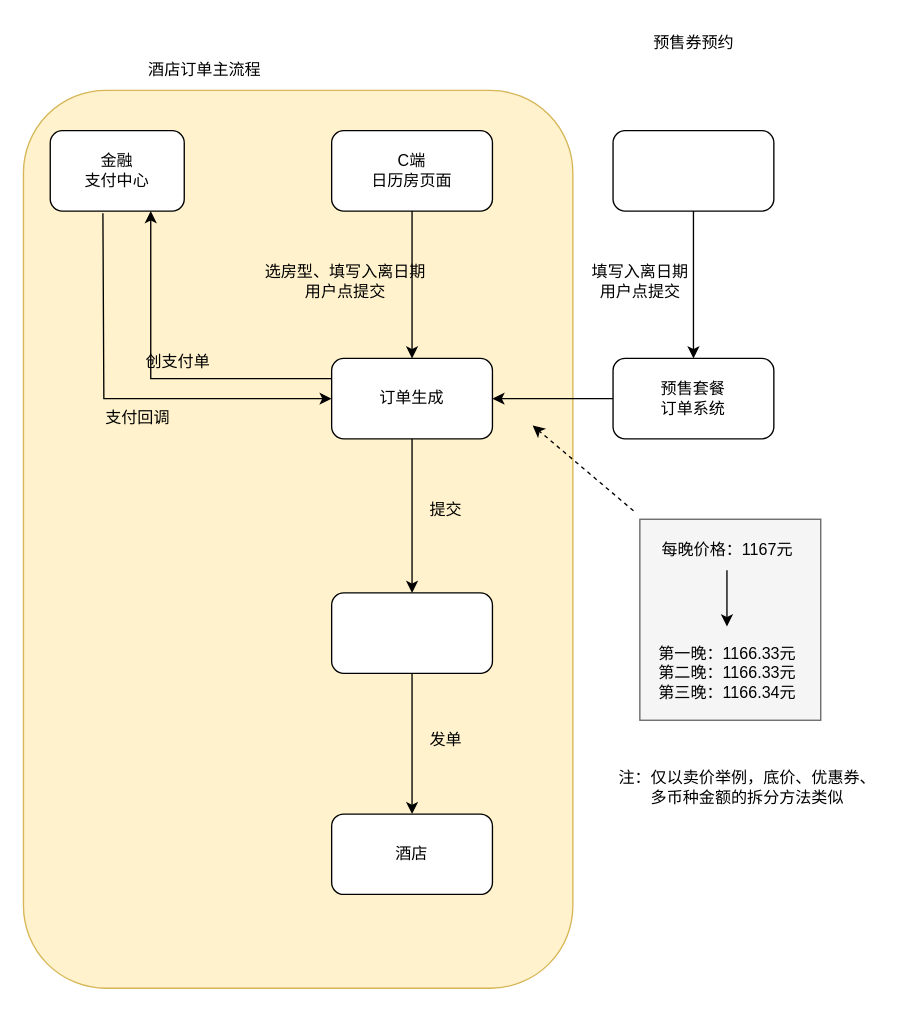
Some shapes in this 918 by 1012 pixel diagram are drawn without their labels. The centre of each missing label's shape, as x and y in pixels:
C端 预售券预约页面: pixel 693 170
订单处理: pixel 411 632
